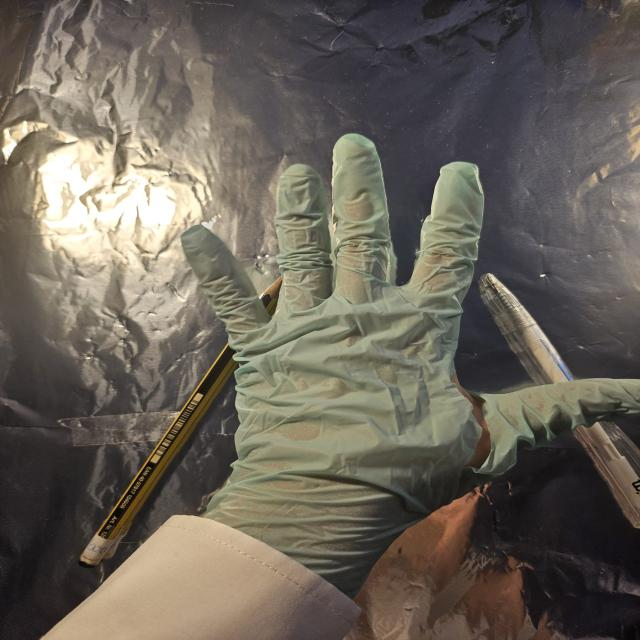gloves_damaged: (176, 130, 640, 595)
